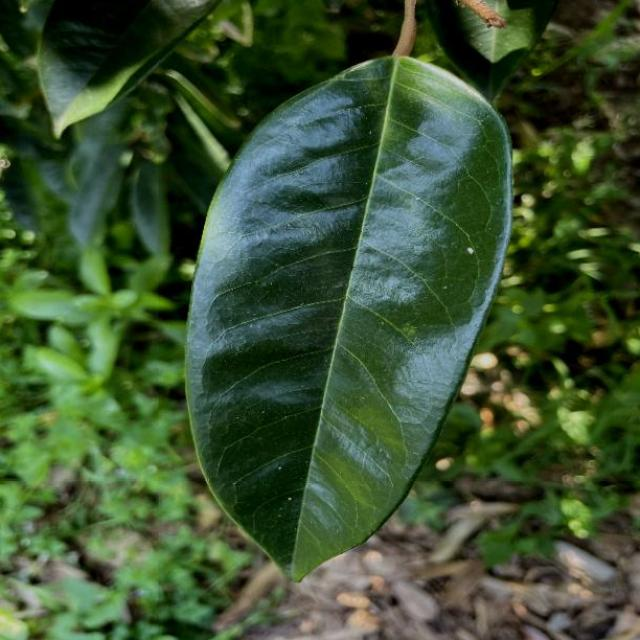No Disease: (167, 42, 525, 596)
